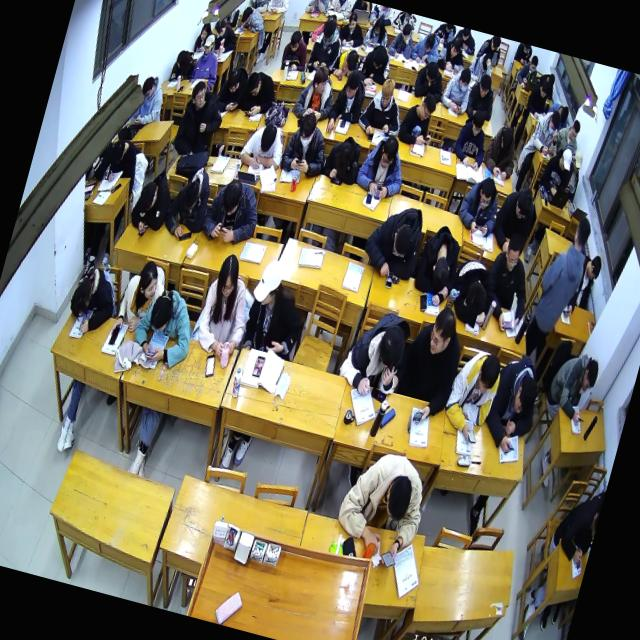bow: (479, 348, 549, 456), (128, 281, 203, 370), (358, 196, 429, 284), (407, 220, 468, 308), (200, 172, 266, 248), (160, 164, 217, 243), (64, 261, 122, 337), (445, 254, 498, 326), (126, 168, 176, 238), (238, 116, 290, 172), (384, 540, 428, 602), (320, 130, 366, 186), (342, 374, 384, 428), (352, 40, 396, 90), (238, 67, 280, 118), (212, 62, 250, 116), (411, 58, 450, 103), (434, 31, 470, 74), (410, 26, 444, 66), (326, 44, 362, 80), (210, 15, 242, 54), (238, 0, 272, 35), (168, 44, 196, 82)
down: (381, 469, 416, 521), (374, 318, 410, 368), (250, 258, 284, 308), (474, 353, 503, 396), (147, 291, 176, 333), (215, 252, 242, 296), (511, 374, 538, 416), (219, 177, 245, 216), (70, 274, 96, 312), (389, 219, 414, 257), (376, 133, 401, 170), (294, 112, 318, 148), (136, 178, 160, 212), (579, 356, 601, 393), (512, 185, 535, 220), (179, 179, 200, 213), (417, 91, 438, 122), (258, 120, 278, 152), (376, 78, 396, 109), (475, 179, 494, 210), (342, 70, 362, 99), (335, 137, 354, 166), (468, 106, 486, 136), (244, 69, 264, 95), (108, 138, 126, 166), (586, 252, 604, 279), (497, 126, 514, 153), (558, 144, 575, 171), (320, 15, 338, 40), (369, 44, 386, 70), (140, 74, 156, 100), (476, 73, 492, 99), (546, 108, 562, 134), (343, 47, 360, 71), (286, 30, 302, 53), (570, 150, 586, 173), (225, 69, 241, 91), (422, 61, 438, 82), (174, 46, 188, 68), (448, 34, 462, 56), (423, 31, 437, 52), (568, 118, 581, 140), (214, 16, 228, 36), (479, 52, 493, 72), (537, 78, 550, 99), (400, 22, 412, 43), (372, 15, 385, 34), (240, 4, 252, 24), (199, 17, 210, 38), (346, 8, 358, 27), (528, 55, 539, 74)
lookup: (502, 235, 524, 272), (201, 33, 215, 56)
sit: (327, 441, 436, 571), (520, 211, 597, 363), (387, 298, 472, 426), (334, 304, 415, 402), (238, 256, 314, 359), (192, 250, 262, 360), (476, 233, 541, 334), (439, 346, 506, 440), (170, 76, 230, 160), (110, 255, 166, 341), (353, 128, 413, 202), (542, 348, 601, 423), (279, 109, 335, 181), (488, 180, 540, 256), (356, 74, 410, 142), (454, 168, 506, 236), (324, 66, 371, 140), (291, 59, 341, 123), (450, 104, 494, 170), (396, 89, 442, 148), (306, 14, 348, 74), (481, 122, 524, 180), (438, 60, 477, 114), (134, 70, 170, 126), (103, 138, 143, 188), (464, 68, 502, 120), (537, 144, 573, 198), (190, 32, 226, 85), (529, 106, 566, 155), (572, 251, 603, 309), (278, 28, 312, 74), (560, 150, 586, 201), (336, 8, 369, 48), (386, 19, 418, 60), (552, 115, 584, 156), (523, 77, 552, 119), (464, 50, 496, 86), (362, 14, 392, 52), (514, 52, 542, 92), (192, 18, 214, 53), (266, 0, 294, 16), (248, 0, 274, 11)
